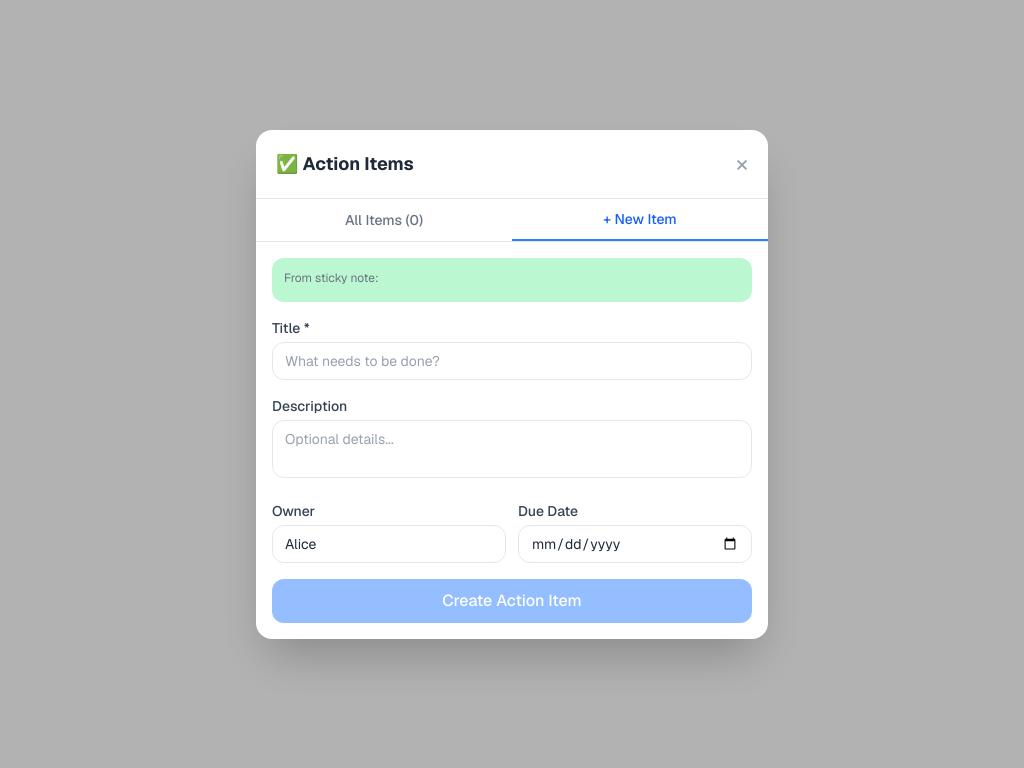
Test: ActionItemModal — initialView=create › Create button enables once title is filled
In the field with placeholder "What needs to be done?": (512,360) 272,342 -> 752,380, type "New task"
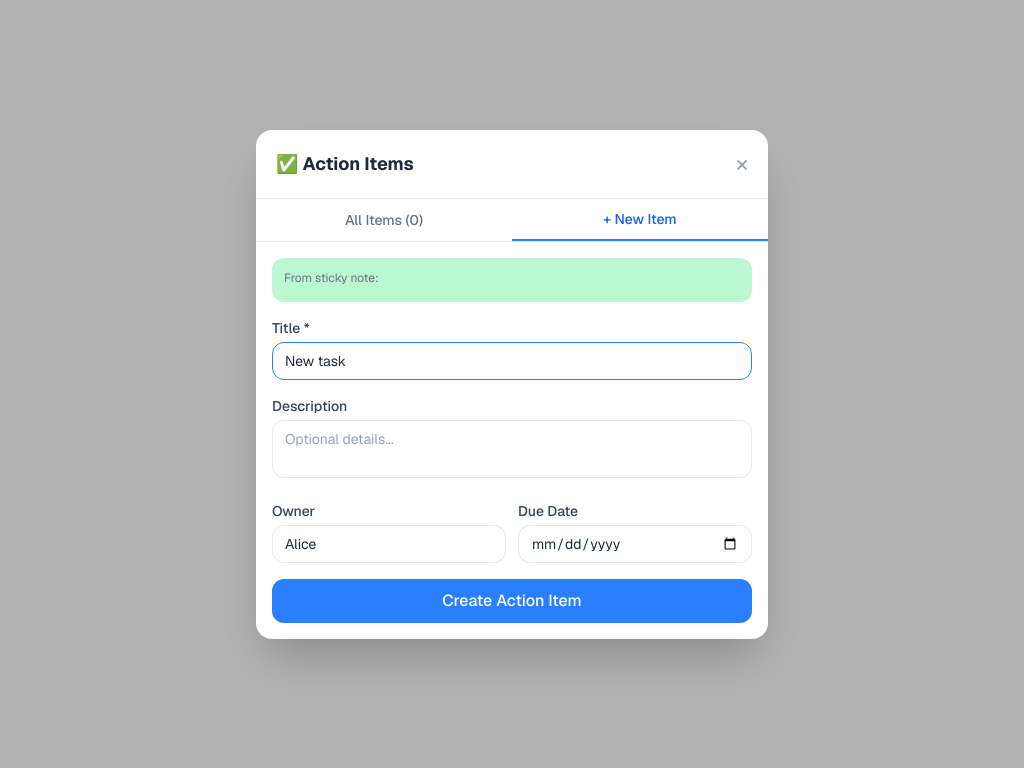
Expected: the button "Create Action Item" is enabled, 272,578 -> 752,622
